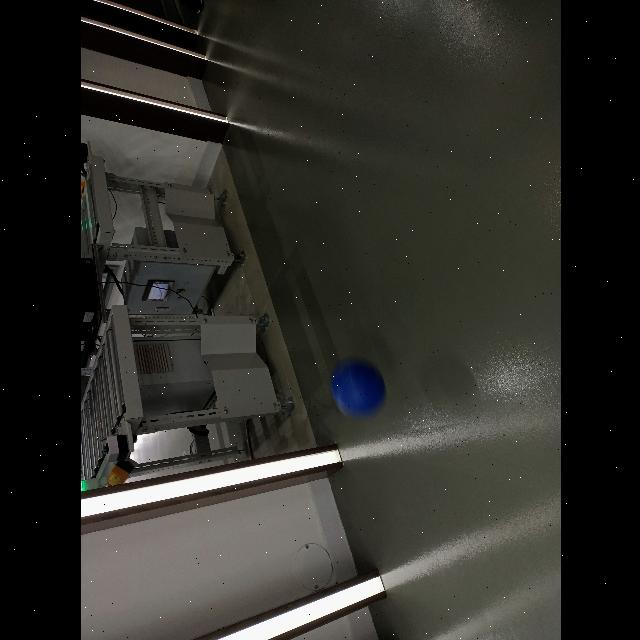B: (328, 353, 384, 422)
